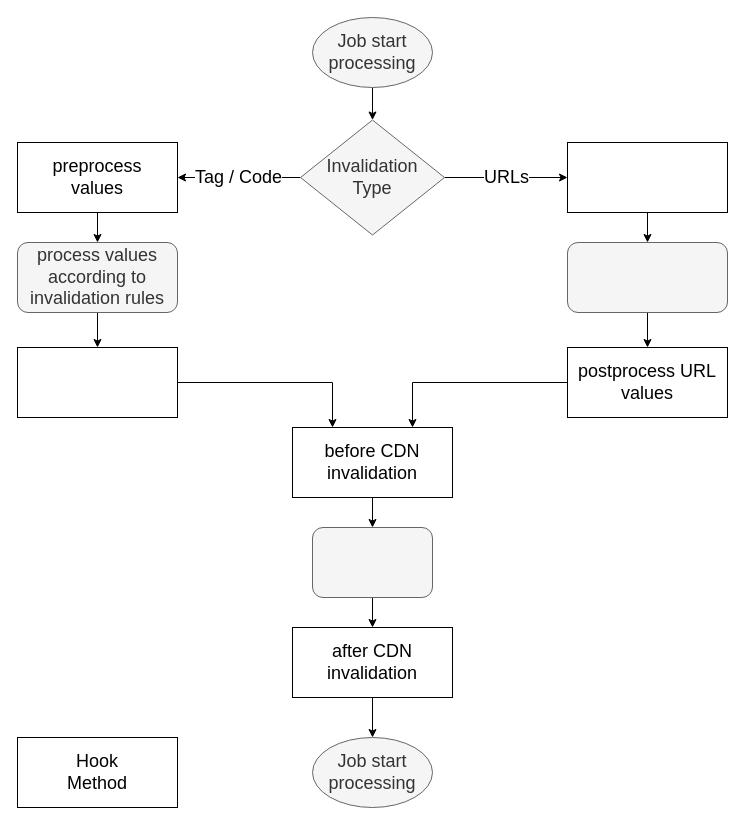
Image size: 745x825. Some labels were removed from this diagram. Each missing label, with the centre of its shape:
"CDN invalidation request" goes at pixel 372 562.
"postprocess values" goes at pixel 97 382.
"preprocess URL values" goes at pixel 647 177.
"process URL according to invalidation rules" goes at pixel 647 277.
